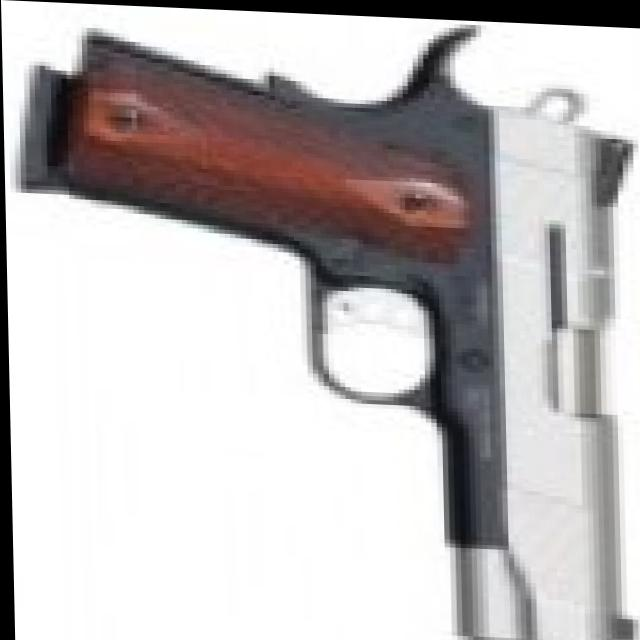handgun: (49, 18, 640, 640)
